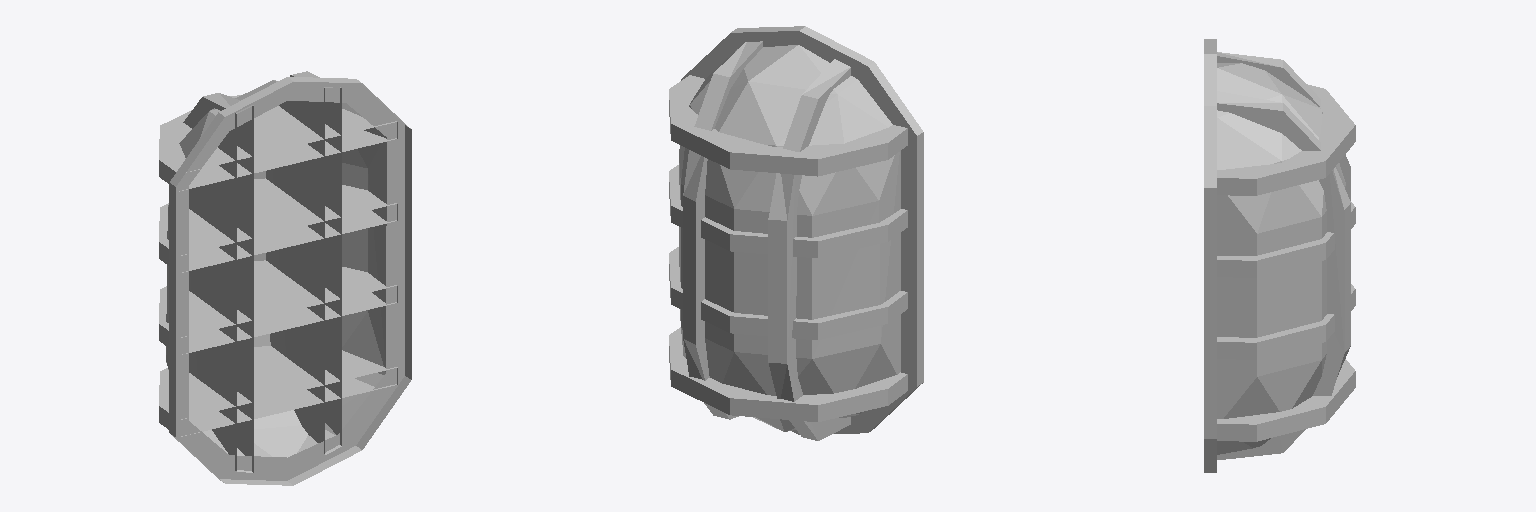
File: led.obj
3 renders of one model, left to right at view 1: azimuth 30°, elevation 25°; view 2: azimuth 150°, elevation 25°; view 3: azimuth 270°, elevation 25°, orthographic.
Visible parts, largest first — view 1: WallLightMetalCage, WallLightGlassCover; view 2: WallLightMetalCage, WallLightGlassCover; view 3: WallLightMetalCage, WallLightGlassCover.
Part boxes in pixels (left/top/right/bottom): WallLightMetalCage: left=159, top=71, right=411, bottom=485; WallLightGlassCover: left=166, top=80, right=386, bottom=457; WallLightMetalCage: left=669, top=26, right=923, bottom=440; WallLightGlassCover: left=679, top=45, right=900, bottom=431; WallLightMetalCage: left=1204, top=39, right=1355, bottom=472; WallLightGlassCover: left=1217, top=63, right=1345, bottom=454.
Bounding box in the file's own units: 2.11 × 3.45 × 1.17.